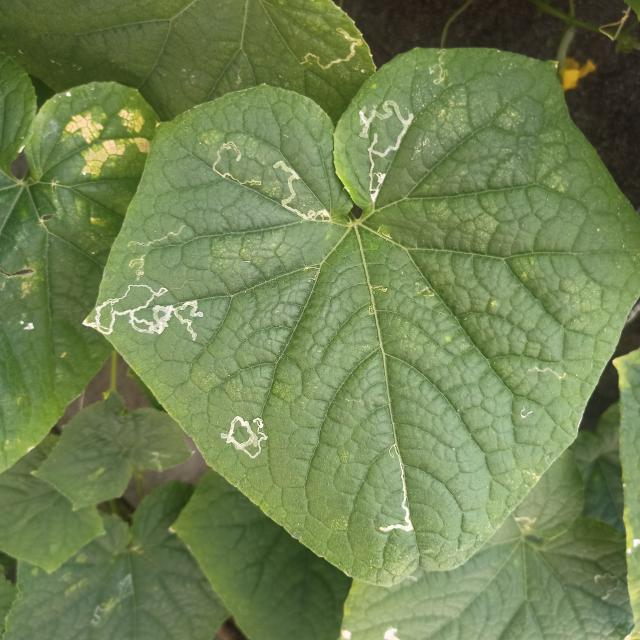disease_cucumber: (62, 105, 153, 178)
